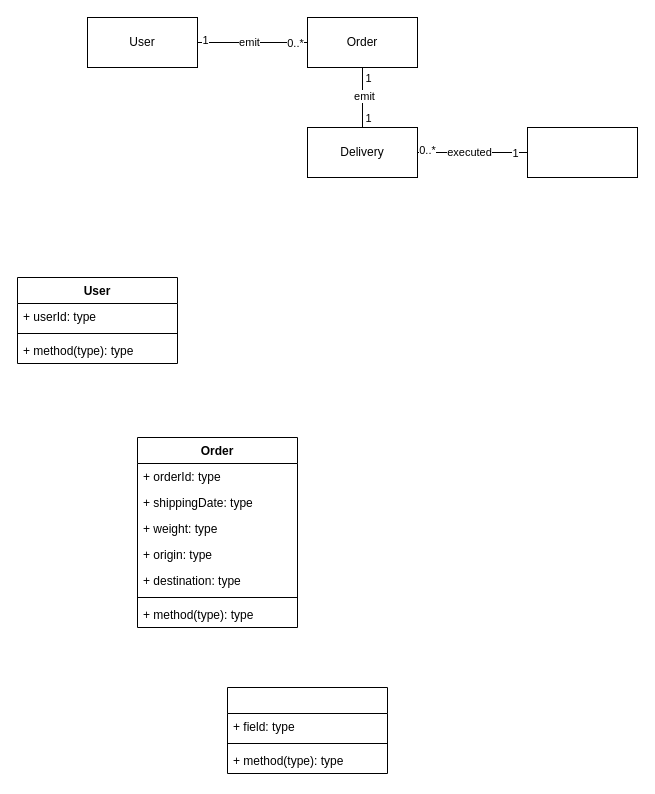
This 655x794 diagram has some shape labels left out. Here are the shapes that lost their labels. From the top down, the box of each, then its label:
(526, 126, 638, 178): Drone
(226, 686, 388, 774): Classname
